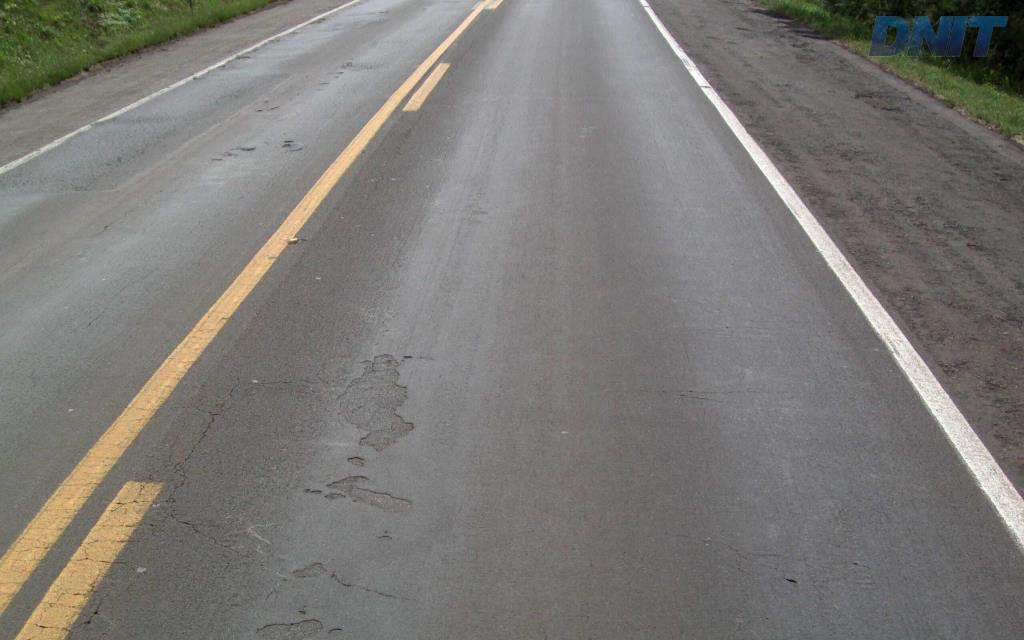pothole: (325, 344, 418, 453), (320, 472, 416, 516), (249, 610, 344, 638), (343, 454, 371, 467), (300, 484, 325, 495)
